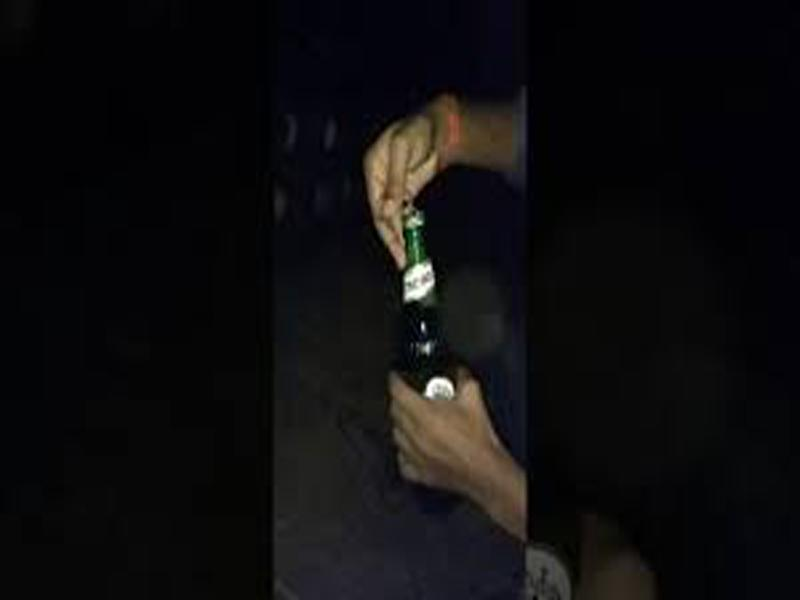Beer: (395, 211, 469, 511)
